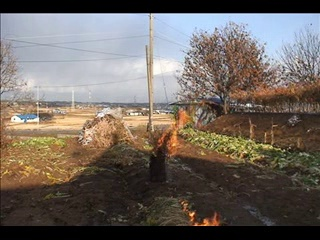fire: (156, 108, 192, 158), (178, 196, 223, 226)
